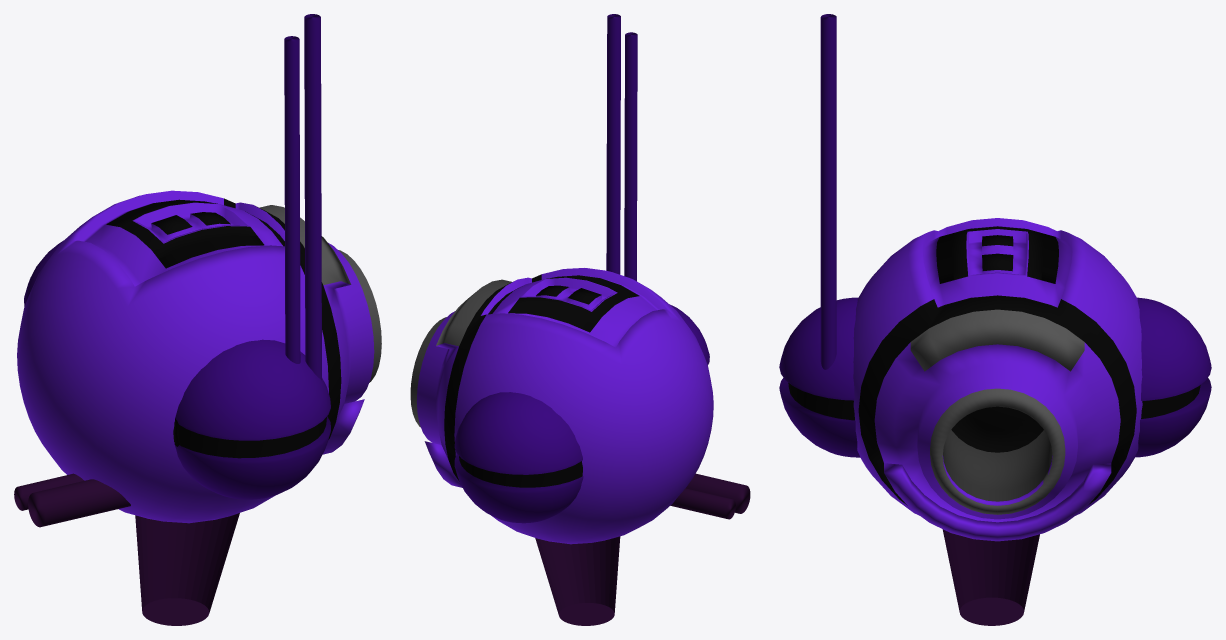
The model's file is drone_purple_turret.fbx.
3 renders of one model, left to right at view 1: azimuth 30°, elevation 25°; view 2: azimuth 150°, elevation 25°; view 3: azimuth 270°, elevation 25°, orthographic. The views are drawn at different scales.
Visible parts, largest first — view 1: Sphere, Turret Antenna, Base Components; view 2: Sphere, Turret Antenna, Base Components; view 3: Sphere, Turret Antenna, Base Components.
Boxes of the visible parts, x1,y1,x2,y2 form: Sphere: (17, 190, 381, 523); Turret Antenna: (24, 14, 330, 499); Base Components: (14, 473, 239, 625); Sphere: (410, 268, 713, 544); Turret Antenna: (454, 14, 709, 523); Base Components: (535, 473, 750, 625); Sphere: (853, 218, 1142, 541); Turret Antenna: (779, 14, 1211, 457); Base Components: (942, 529, 1039, 625).
Bounding box in the file's own units: 238 × 425 × 269.
